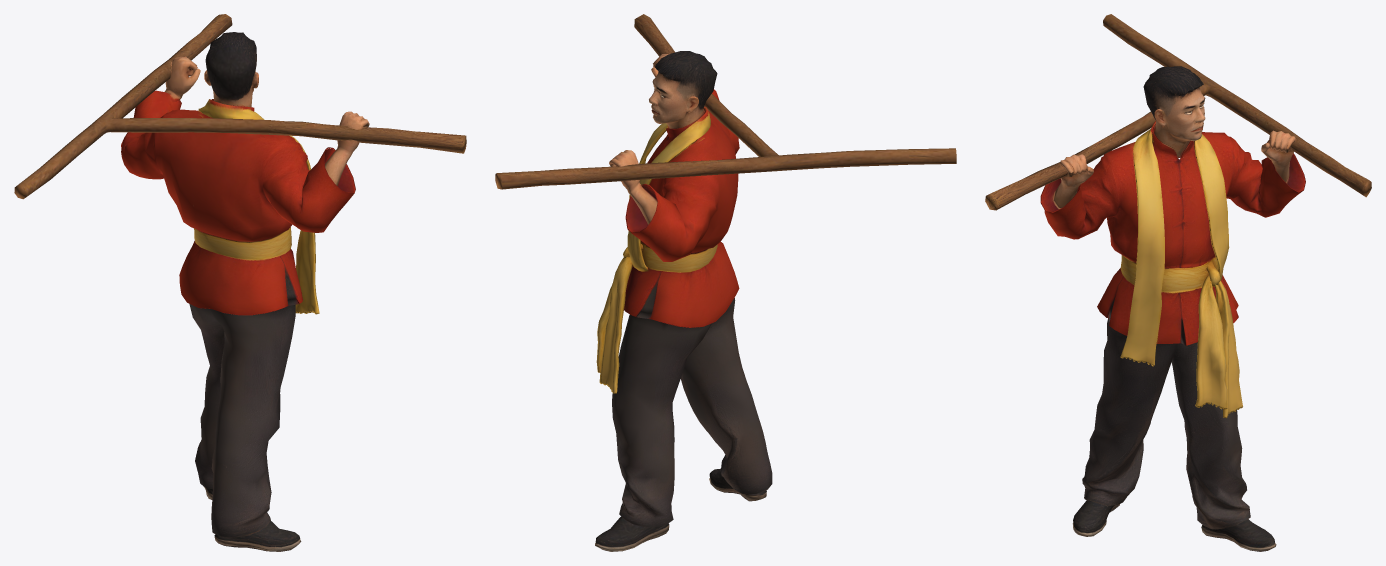
Rendered from carrier.glb.
The picture shows the model from 3 angles, left to right: view 1: azimuth 30°, elevation 25°; view 2: azimuth 150°, elevation 25°; view 3: azimuth 270°, elevation 25°; orthographic projection. The views are drawn at different scales.
Parts seen in each view (by area): view 1: tripo_node_93c4ba8d-39fe-46ea-9f5d-35207d707c6d; view 2: tripo_node_93c4ba8d-39fe-46ea-9f5d-35207d707c6d; view 3: tripo_node_93c4ba8d-39fe-46ea-9f5d-35207d707c6d.
Boxes of the visible parts, box(x1,y1,x2,y2) form: tripo_node_93c4ba8d-39fe-46ea-9f5d-35207d707c6d: box(14, 14, 466, 551); tripo_node_93c4ba8d-39fe-46ea-9f5d-35207d707c6d: box(495, 14, 956, 551); tripo_node_93c4ba8d-39fe-46ea-9f5d-35207d707c6d: box(985, 14, 1371, 551).
Bounding box in the file's own units: 0.8511 × 0.9995 × 0.7544.
1 material, 1 textured.
